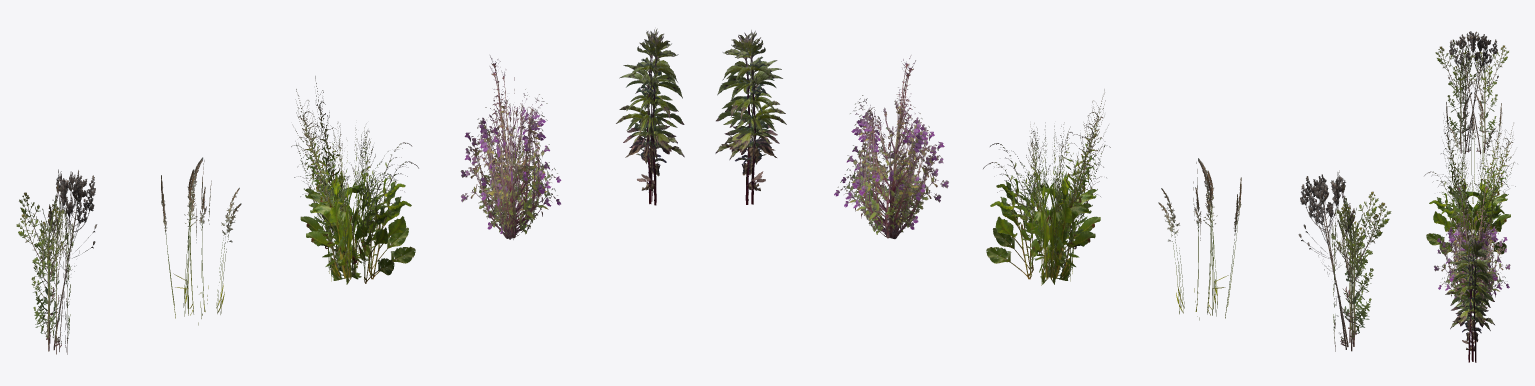
The model's file is SmallPlants.FBX.
The picture shows the model from 3 angles, left to right: view 1: azimuth 30°, elevation 25°; view 2: azimuth 150°, elevation 25°; view 3: azimuth 270°, elevation 25°; orthographic projection. The views are drawn at different scales.
Visible parts, largest first — view 1: SmallPlant014, SmallPlant4, SmallPlant1, SmallPlant019, SmallPlant012; view 2: SmallPlant014, SmallPlant4, SmallPlant1, SmallPlant019, SmallPlant012; view 3: SmallPlant014, SmallPlant1, SmallPlant019, SmallPlant4, SmallPlant012.
Boxes of the visible parts, x1,y1,x2,y2 form: SmallPlant014: (291,76,418,284); SmallPlant4: (460,55,561,239); SmallPlant1: (16,169,97,354); SmallPlant019: (616,28,684,205); SmallPlant012: (161,157,241,325); SmallPlant014: (983,89,1110,285); SmallPlant4: (834,55,948,239); SmallPlant1: (1298,170,1391,351); SmallPlant019: (715,30,786,204); SmallPlant012: (1158,158,1241,320); SmallPlant014: (1424,112,1517,259); SmallPlant1: (1435,31,1508,154); SmallPlant019: (1445,236,1494,362); SmallPlant4: (1434,181,1510,313); SmallPlant012: (1446,92,1501,203).
Bounding box in the file's own units: 18.64 × 4.93 × 3.29.
Materials: 1 (1 with a texture image).
